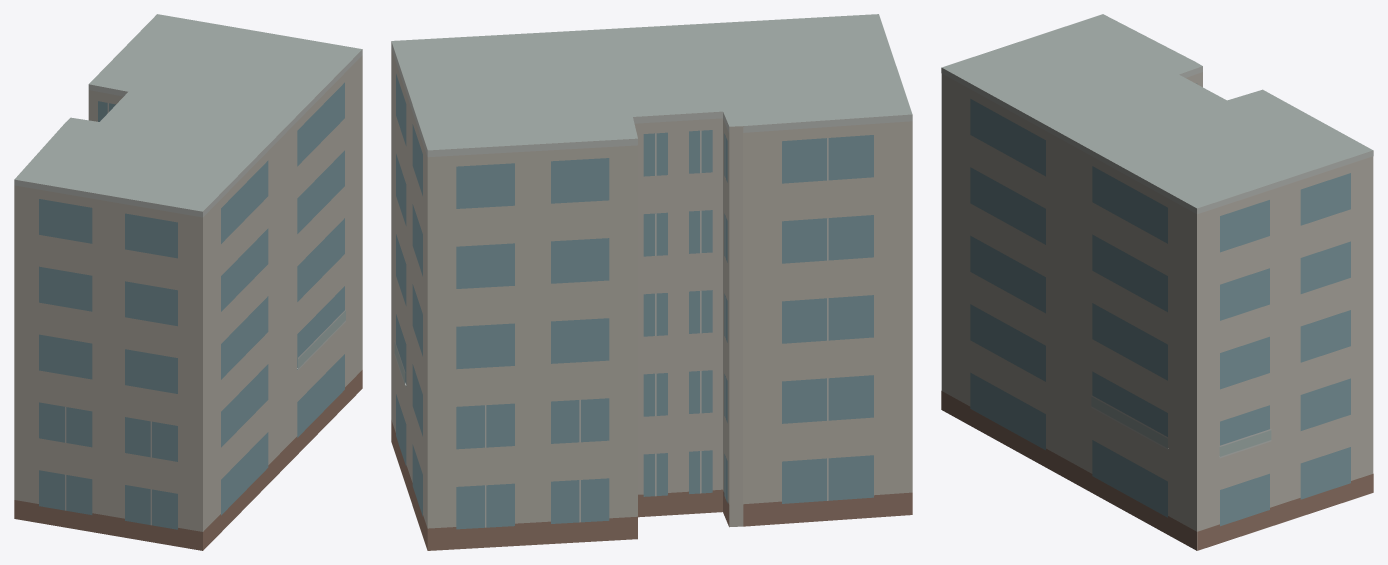
Rendered from survey-upis-32675488.glb.
3 views of the same model, side by side, from view 1: azimuth 30°, elevation 25°; view 2: azimuth 150°, elevation 25°; view 3: azimuth 270°, elevation 25° (orthographic). The views are drawn at different scales.
Visible parts, largest first — view 1: survey-upis-32675488.tmp; view 2: survey-upis-32675488.tmp; view 3: survey-upis-32675488.tmp.
Boxes of the visible parts, bbox=[...] form: survey-upis-32675488.tmp: bbox=[14, 14, 362, 550]; survey-upis-32675488.tmp: bbox=[391, 14, 912, 550]; survey-upis-32675488.tmp: bbox=[941, 14, 1373, 550].
Bounding box in the file's own units: 17.49 × 14.35 × 16.41.
